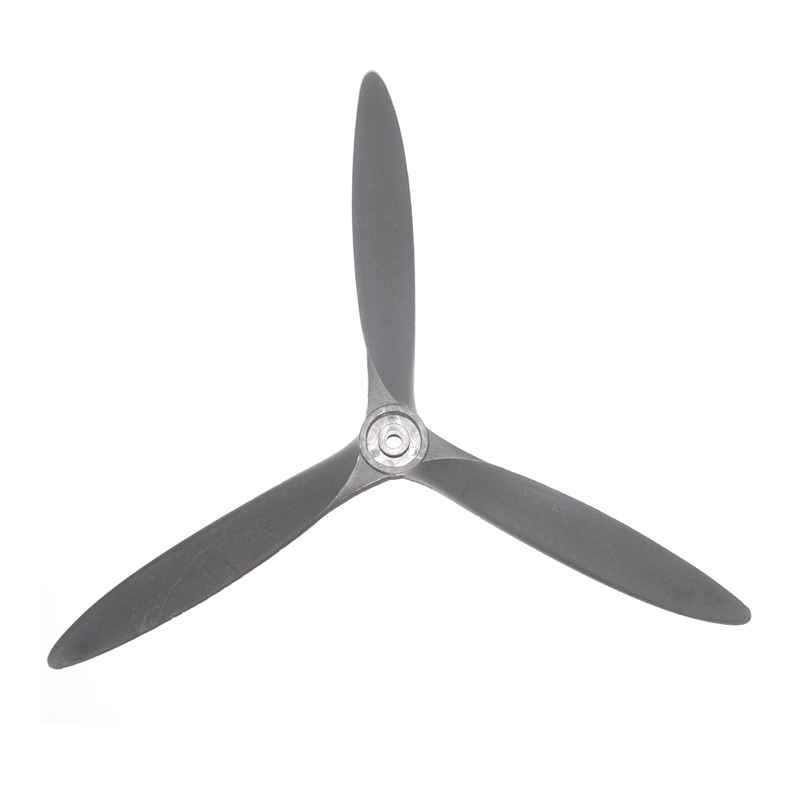Propeller: (42, 67, 755, 699)
